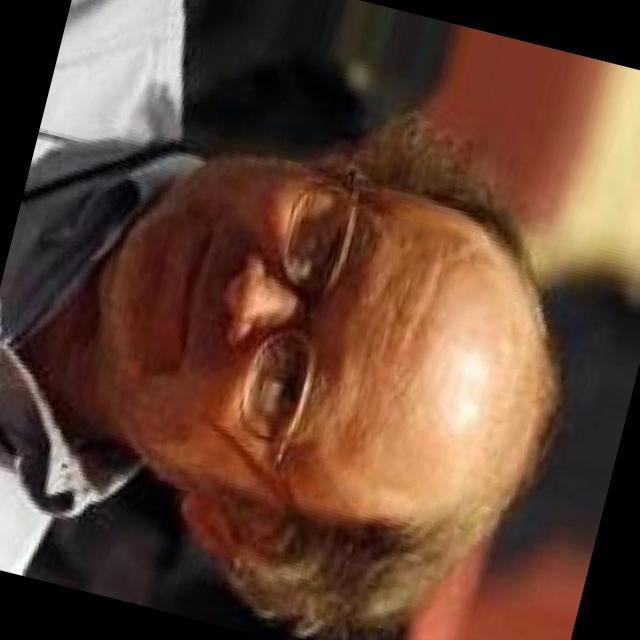bareface: (51, 114, 582, 606)
